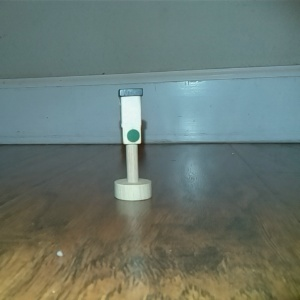traffic light green: (111, 85, 154, 205)
